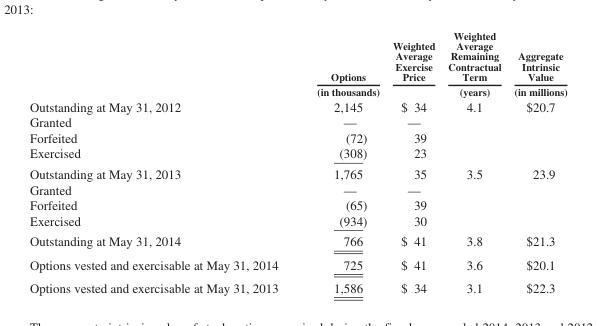table: (28, 28, 566, 294)
table column: (28, 28, 296, 294), (296, 28, 385, 294), (440, 28, 507, 294), (507, 28, 566, 294), (385, 28, 440, 294)
table column header: (28, 28, 566, 98)
table row: (28, 28, 566, 98), (28, 252, 566, 275), (28, 230, 566, 252), (28, 275, 566, 294), (28, 145, 566, 163), (28, 163, 566, 181), (28, 212, 566, 230), (28, 98, 566, 114), (28, 129, 566, 145), (28, 196, 566, 212), (28, 114, 566, 129), (28, 181, 566, 196)
